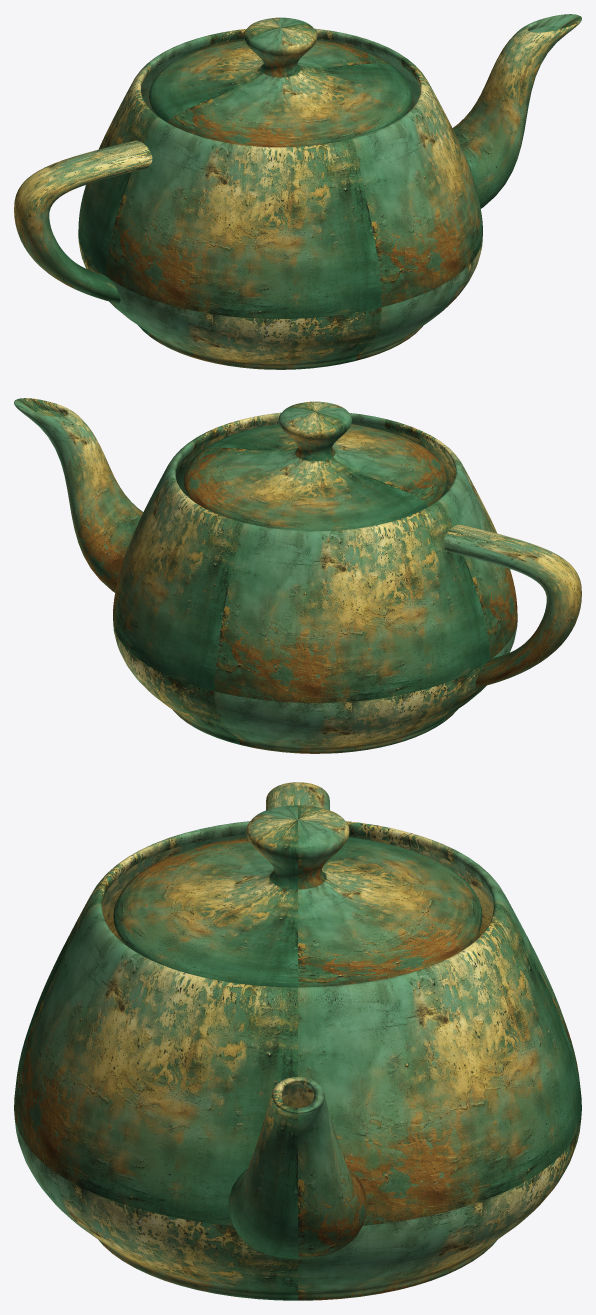
Rendered from teapot_16.obj.
3 views of the same model, one above another, from view 1: azimuth 30°, elevation 25°; view 2: azimuth 150°, elevation 25°; view 3: azimuth 270°, elevation 25° (orthographic). The views are drawn at different scales.
Visible parts, largest first — view 1: Teapot001; view 2: Teapot001; view 3: Teapot001.
Part boxes in pixels (x1,y1,x2,y2): Teapot001: (14, 14, 581, 369); Teapot001: (14, 398, 581, 753); Teapot001: (14, 782, 581, 1300).
Size of the model in its own units: 4 by 1.96 by 2.49.
Materials: 1 (1 with a texture image).
